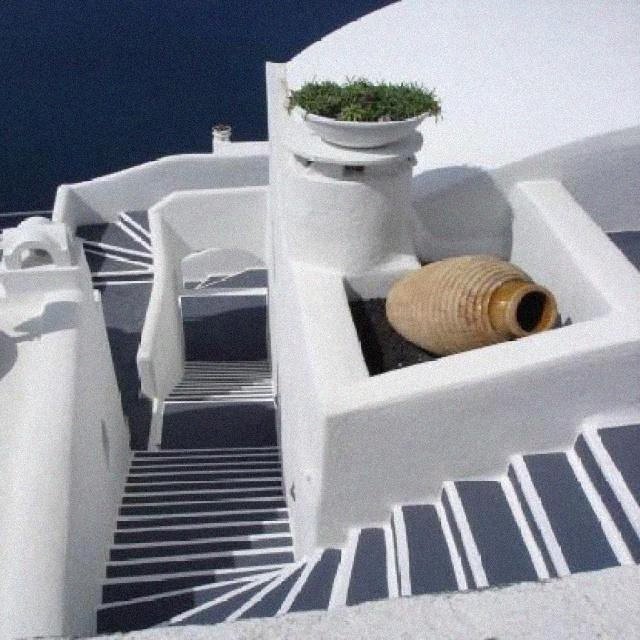stair: (94, 422, 640, 632), (160, 359, 275, 403)
